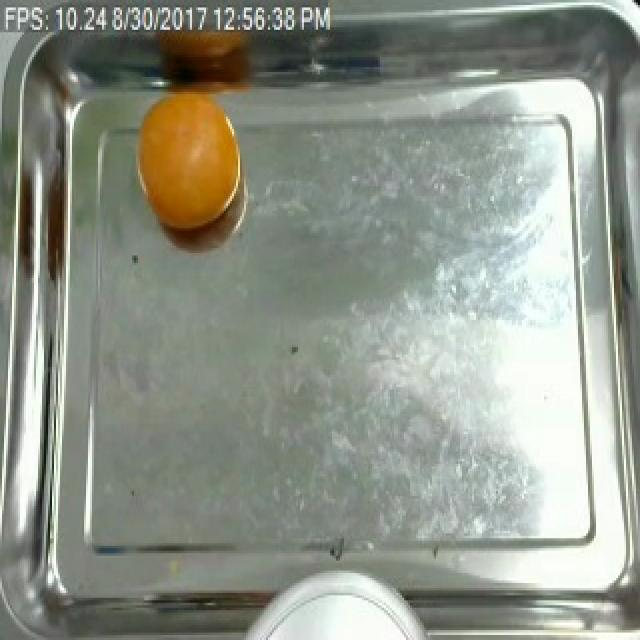Fruit: (128, 77, 250, 236)
